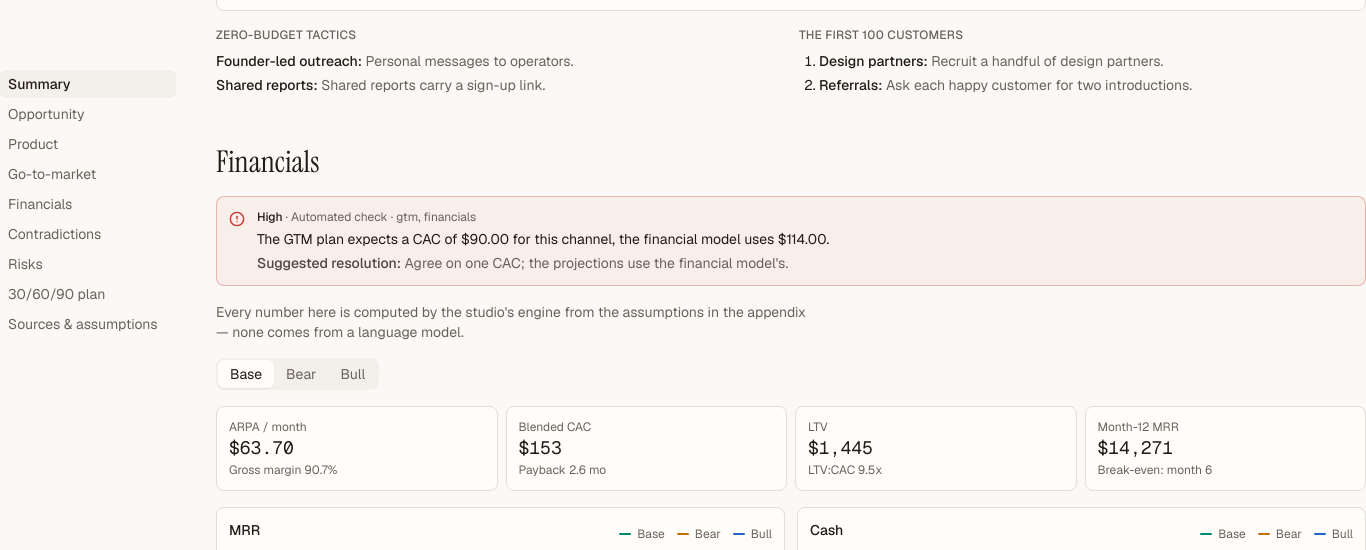
Test: PlanView › switches the financial tables between base, bear and bull
(page scrolled)
Click the radio button labelled "Bear" at (301, 374), box [274,360,328,388]
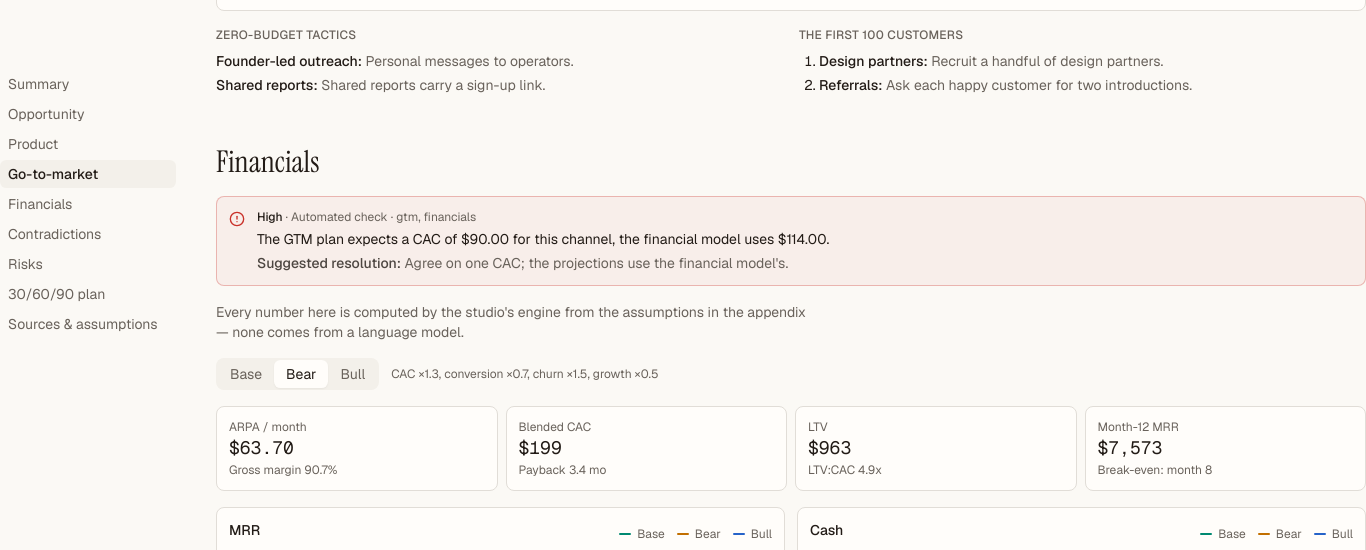
Check: the text "CAC ×1.3, conversion ×0.7, churn ×1.5, growth ×0.5" is shown, box [391,366,658,382]
